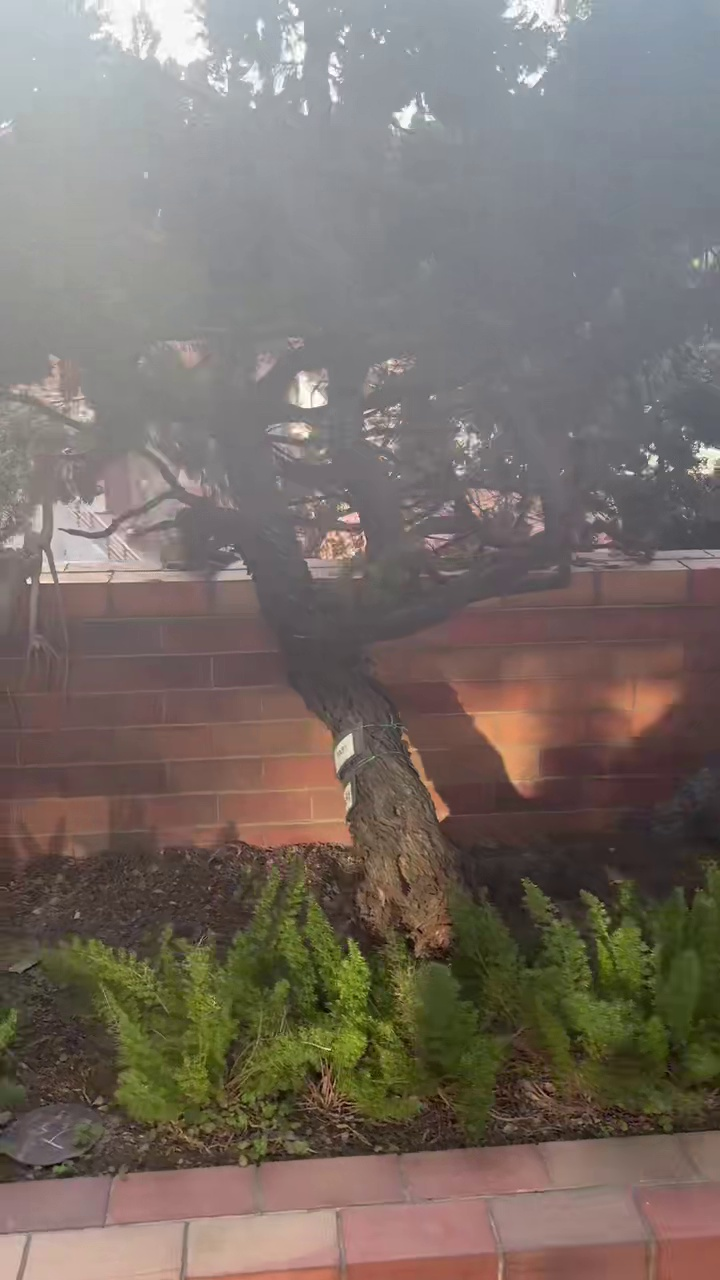Juniperus chinensis: (0, 0, 719, 948)
